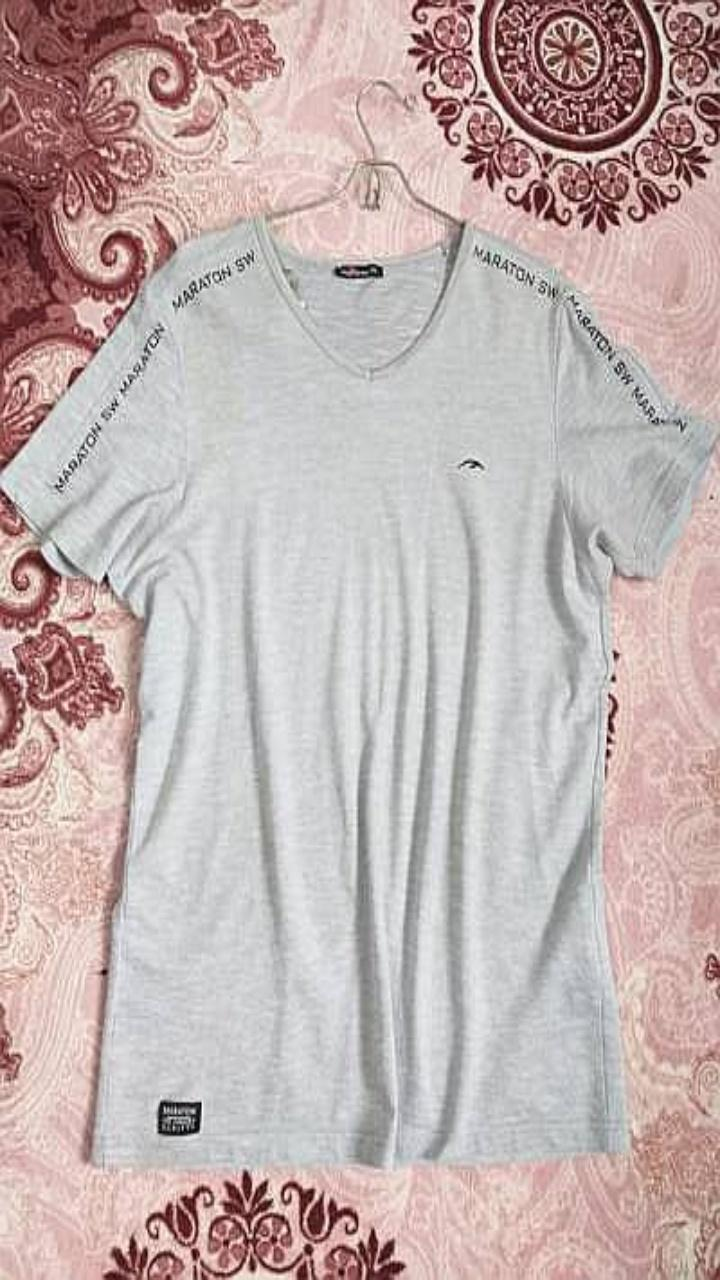T-Shirt: (0, 215, 719, 1167)
